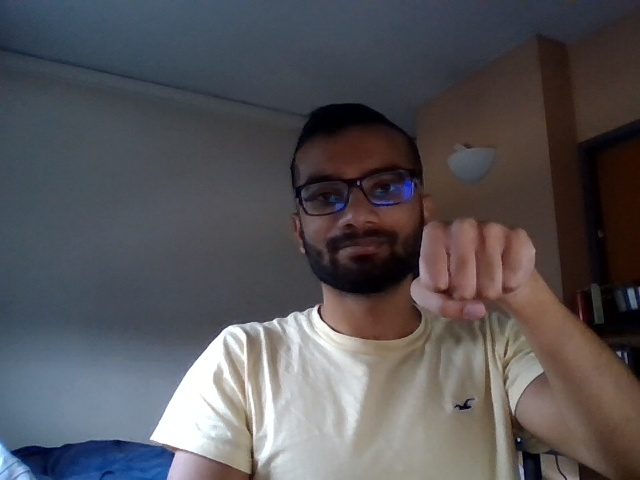Yes: (404, 213, 545, 329)
